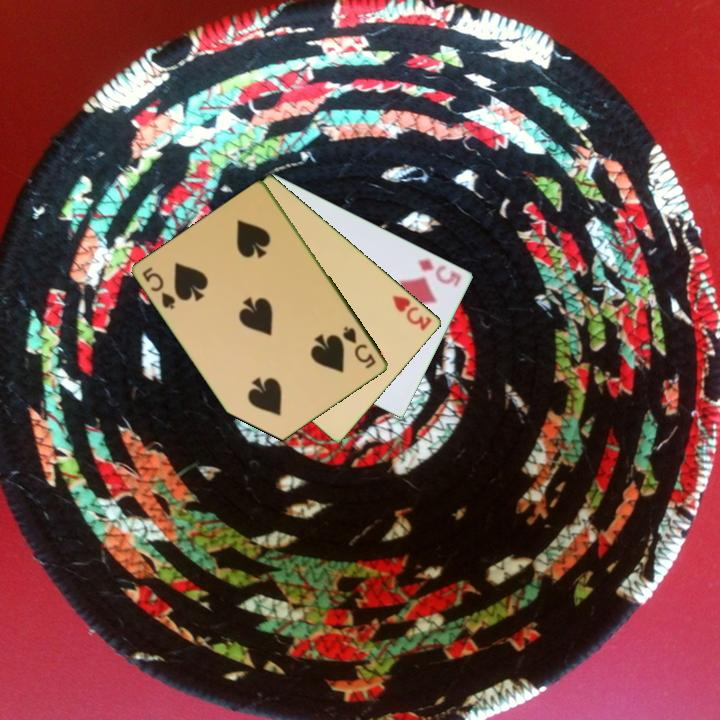3h: (389, 292, 435, 333)
5d: (415, 255, 464, 290)
5s: (139, 263, 179, 313), (339, 323, 379, 372)
